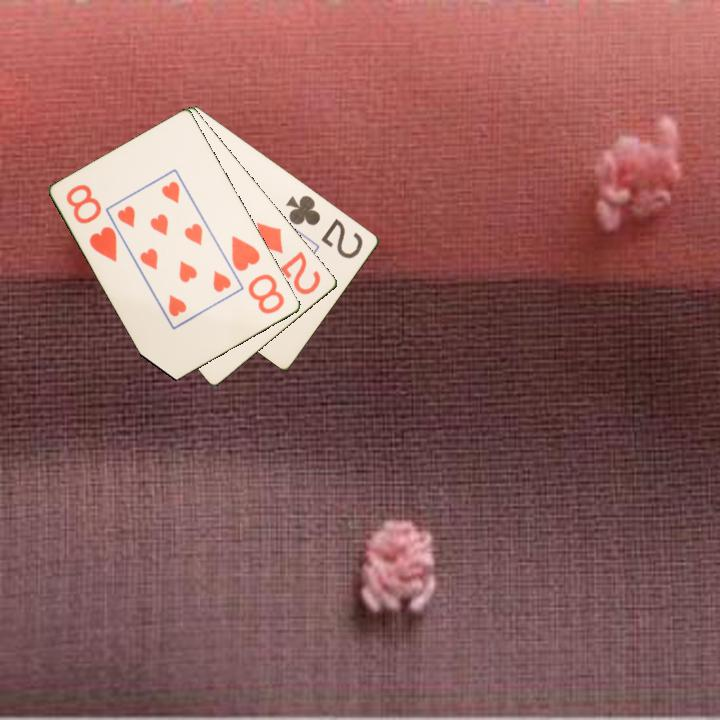2c: (283, 191, 367, 262)
2d: (253, 219, 324, 298)
8h: (228, 232, 288, 317), (63, 181, 120, 265)
